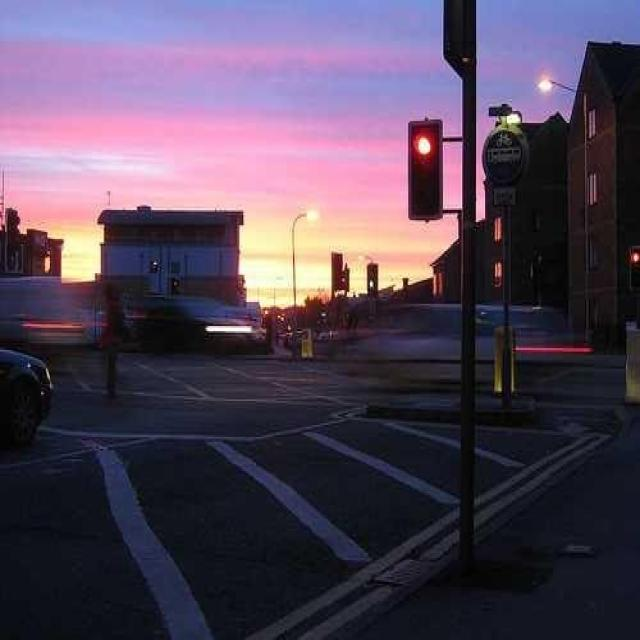Traffic Light -Red-: (405, 116, 446, 226)
